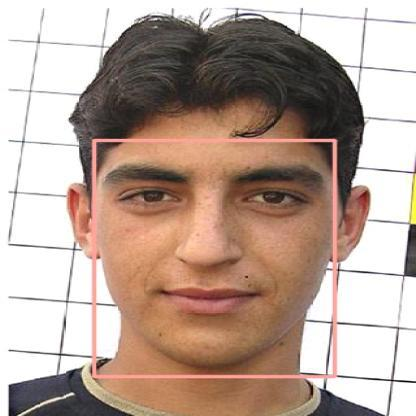without_mask: (94, 140, 334, 376)
